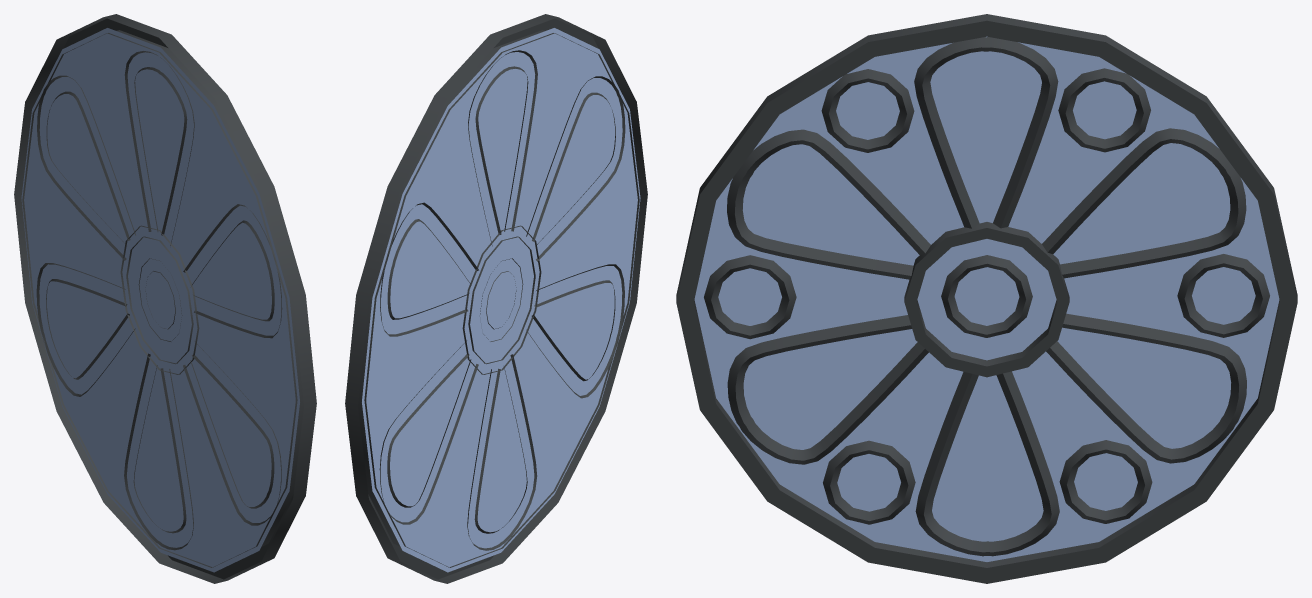
Rendered from M_rosace.FBX.
3 renders of one model, left to right at view 1: azimuth 30°, elevation 25°; view 2: azimuth 150°, elevation 25°; view 3: azimuth 270°, elevation 25°, orthographic. The views are drawn at different scales.
Visible parts, largest first — view 1: Cylinder003; view 2: Cylinder003; view 3: Cylinder003.
Boxes of the visible parts, left/top/right/bottom form: Cylinder003: left=14, top=14, right=316, bottom=583; Cylinder003: left=345, top=14, right=647, bottom=583; Cylinder003: left=676, top=14, right=1297, bottom=583.
Size of the model in its own units: 11.95 by 449 by 449.
